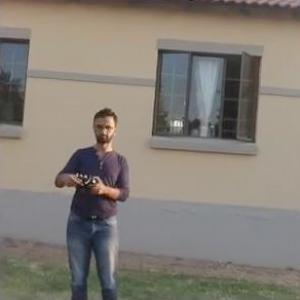follow: (47, 103, 134, 299)
